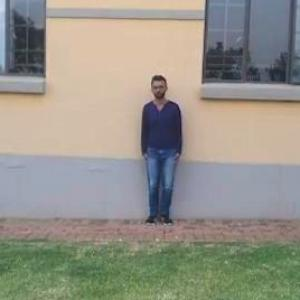follow: (140, 73, 185, 224)
